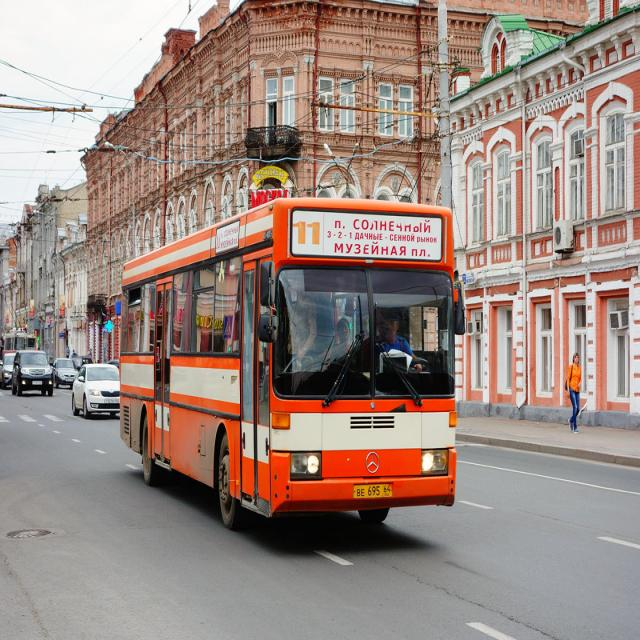number-of-bus: (293, 213, 326, 257)
